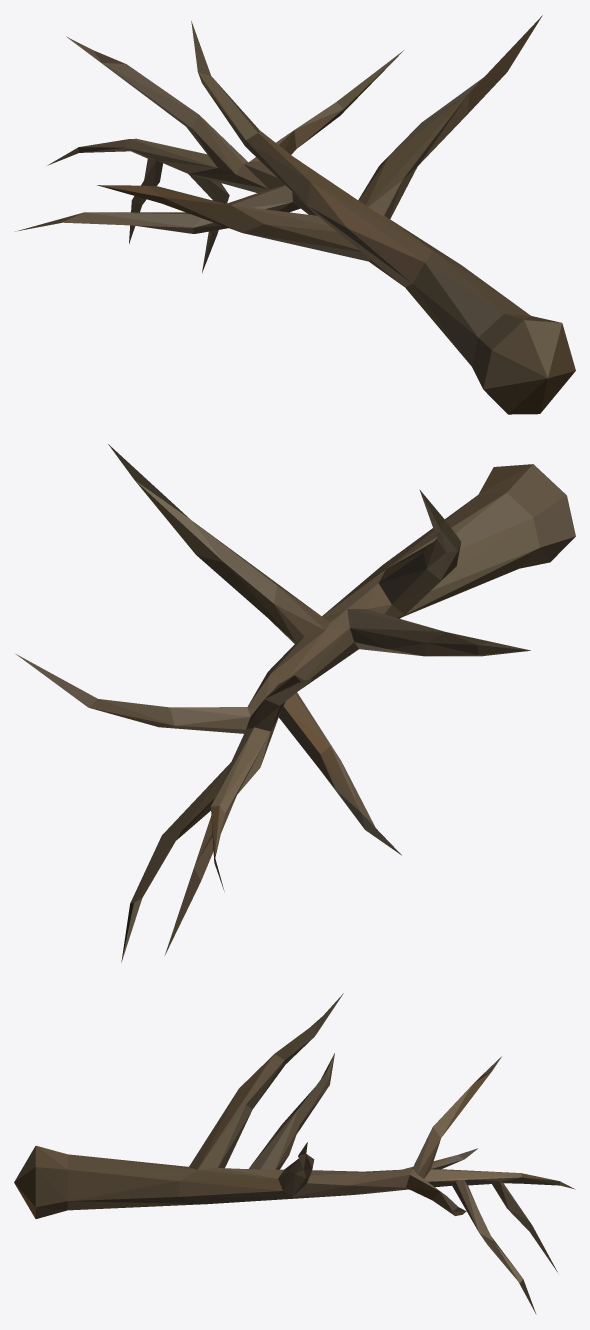
File: Tree-Dead_B-DetailB.fbx
3 renders of one model, top to bottom at view 1: azimuth 30°, elevation 25°; view 2: azimuth 150°, elevation 25°; view 3: azimuth 270°, elevation 25°, orthographic. The views are drawn at different scales.
Visible parts, largest first — view 1: Tree-Dead_B-DetailB; view 2: Tree-Dead_B-DetailB; view 3: Tree-Dead_B-DetailB.
Boxes of the visible parts, left/top/right/bottom form: Tree-Dead_B-DetailB: left=15, top=15, right=575, bottom=414; Tree-Dead_B-DetailB: left=16, top=444, right=575, bottom=962; Tree-Dead_B-DetailB: left=14, top=993, right=575, bottom=1314.
Bounding box in the file's own units: 707 × 619 × 1154.
